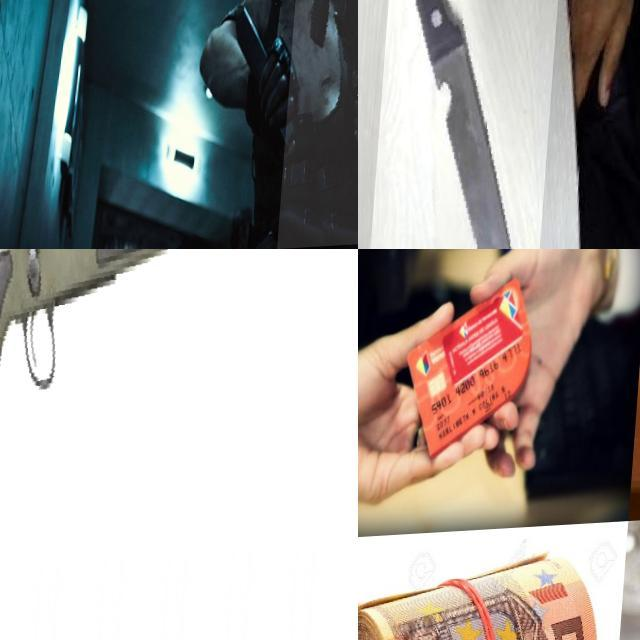-: (368, 0, 573, 249)
gun-knife-thesis - v11 Yolov5 augmented: (0, 249, 358, 578), (285, 0, 358, 249)
